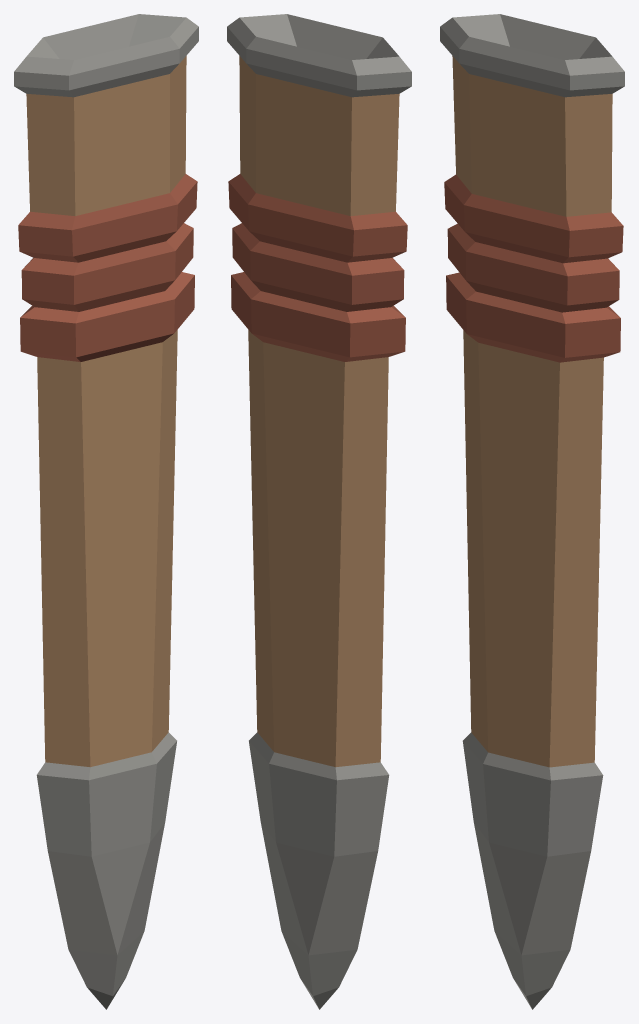
File: SM_pwe_medieval_dagger_scabbard_03.fbx
The picture shows the model from 3 angles, left to right: view 1: azimuth 30°, elevation 25°; view 2: azimuth 150°, elevation 25°; view 3: azimuth 330°, elevation 25°; orthographic projection.
Parts seen in each view (by area): view 1: SM_pwe_medieval_dagger_scabbard_03; view 2: SM_pwe_medieval_dagger_scabbard_03; view 3: SM_pwe_medieval_dagger_scabbard_03.
Part boxes in pixels (box(x1,y1,x2,y2)): SM_pwe_medieval_dagger_scabbard_03: box(14, 14, 198, 1009); SM_pwe_medieval_dagger_scabbard_03: box(227, 14, 411, 1009); SM_pwe_medieval_dagger_scabbard_03: box(440, 14, 624, 1009).
Bounding box in the file's own units: 7.68 × 38.65 × 2.58.
